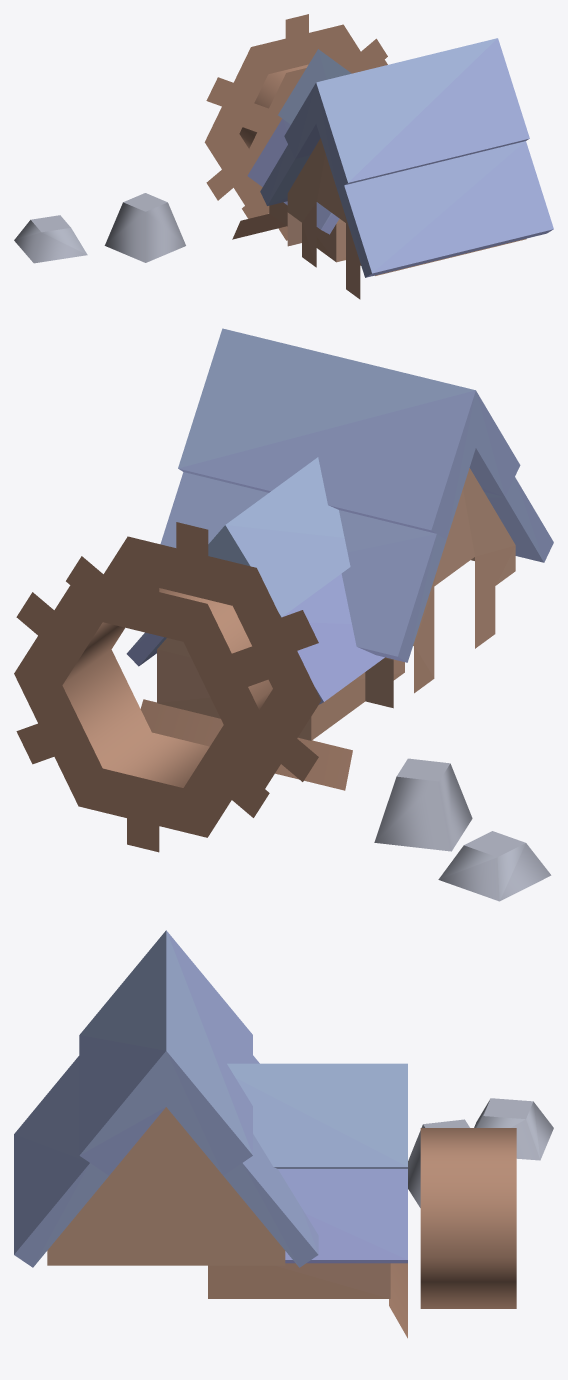
The model's file is building-watermill.glb.
3 views of the same model, one above another, from view 1: azimuth 30°, elevation 25°; view 2: azimuth 150°, elevation 25°; view 3: azimuth 270°, elevation 25° (orthographic). The views are drawn at different scales.
Parts seen in each view (by area): view 1: building-watermill, rotate-z; view 2: building-watermill, rotate-z; view 3: building-watermill, rotate-z.
Boxes of the visible parts, <box> form: building-watermill: <box>14,38,553,299</box>; rotate-z: <box>204,14,387,240</box>; building-watermill: <box>126,328,553,901</box>; rotate-z: <box>14,522,321,852</box>; building-watermill: <box>14,930,553,1338</box>; rotate-z: <box>420,1128,516,1308</box>.
Size of the model in its own units: 0.6167 by 0.4151 by 0.5719.
